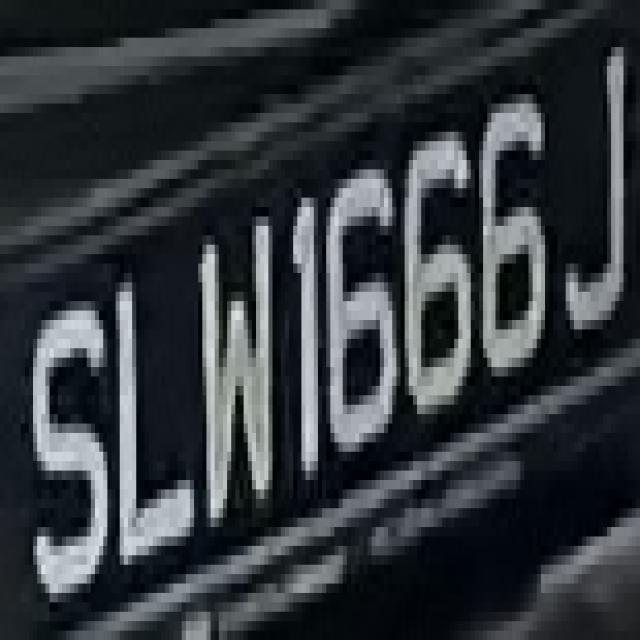1: (289, 160, 330, 499)
6: (310, 160, 400, 489), (388, 113, 475, 442), (471, 75, 545, 405)
J: (562, 28, 632, 339)
L: (104, 254, 206, 584)
S: (29, 282, 107, 593)
W: (178, 207, 289, 527)
